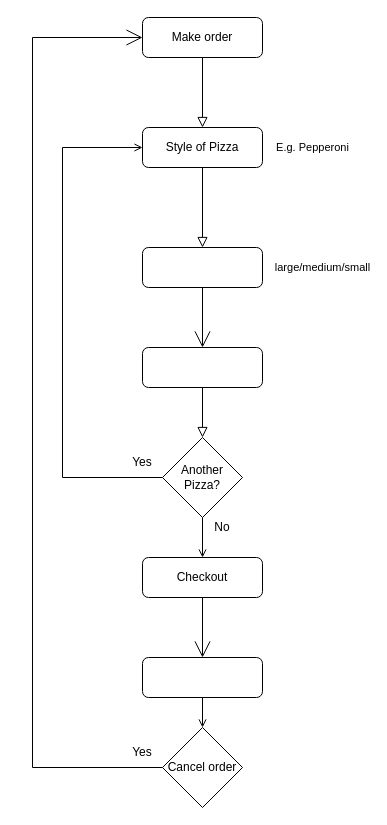
This 387x825 diagram has some shape labels left out. The shapes that lost their labels are listed below. From the top down, each one's centre as x and y in pixels, then its label:
At pixel 202 267: "Size of pizza".
At pixel 202 367: "Add to cart".
At pixel 202 677: "Buy".
